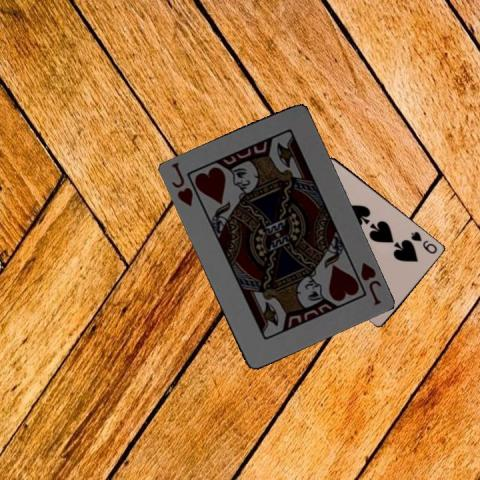9s: (408, 229, 439, 255)
Jh: (167, 159, 194, 208), (357, 258, 382, 306)
